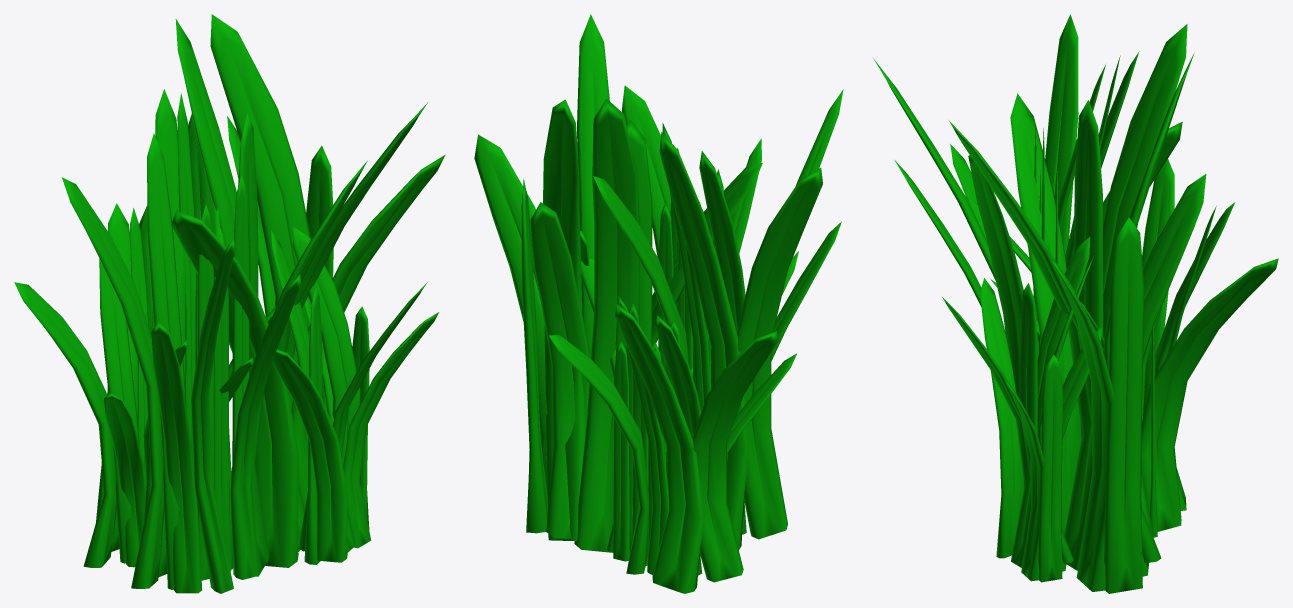
File: obj_Grass_Group3.fbx
3 views of the same model, side by side, from view 1: azimuth 30°, elevation 25°; view 2: azimuth 150°, elevation 25°; view 3: azimuth 270°, elevation 25° (orthographic). The views are drawn at different scales.
Parts seen in each view (by area): view 1: Grass3; view 2: Grass3; view 3: Grass3.
Boxes of the visible parts, x1=… form: Grass3: x1=14, y1=14, x2=445, y2=593; Grass3: x1=474, y1=14, x2=843, y2=593; Grass3: x1=873, y1=14, x2=1278, y2=593.
Bounding box in the file's own units: 1.39 × 1.81 × 1.29.
